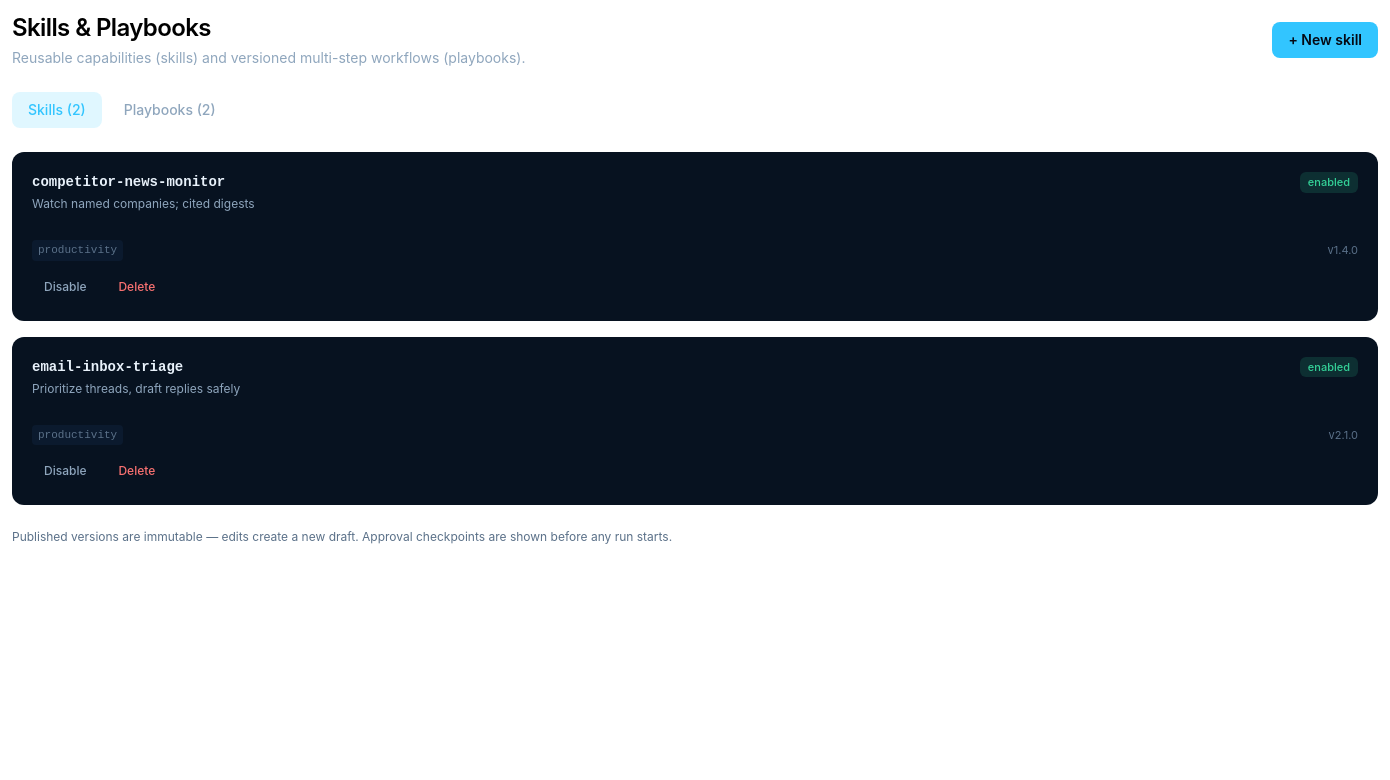
Test: §8.8 playbook versioning › runs record the version they ran and history displays it
Click the tab "Playbooks (2)".
click(170, 110)  # box [108,92,232,128]
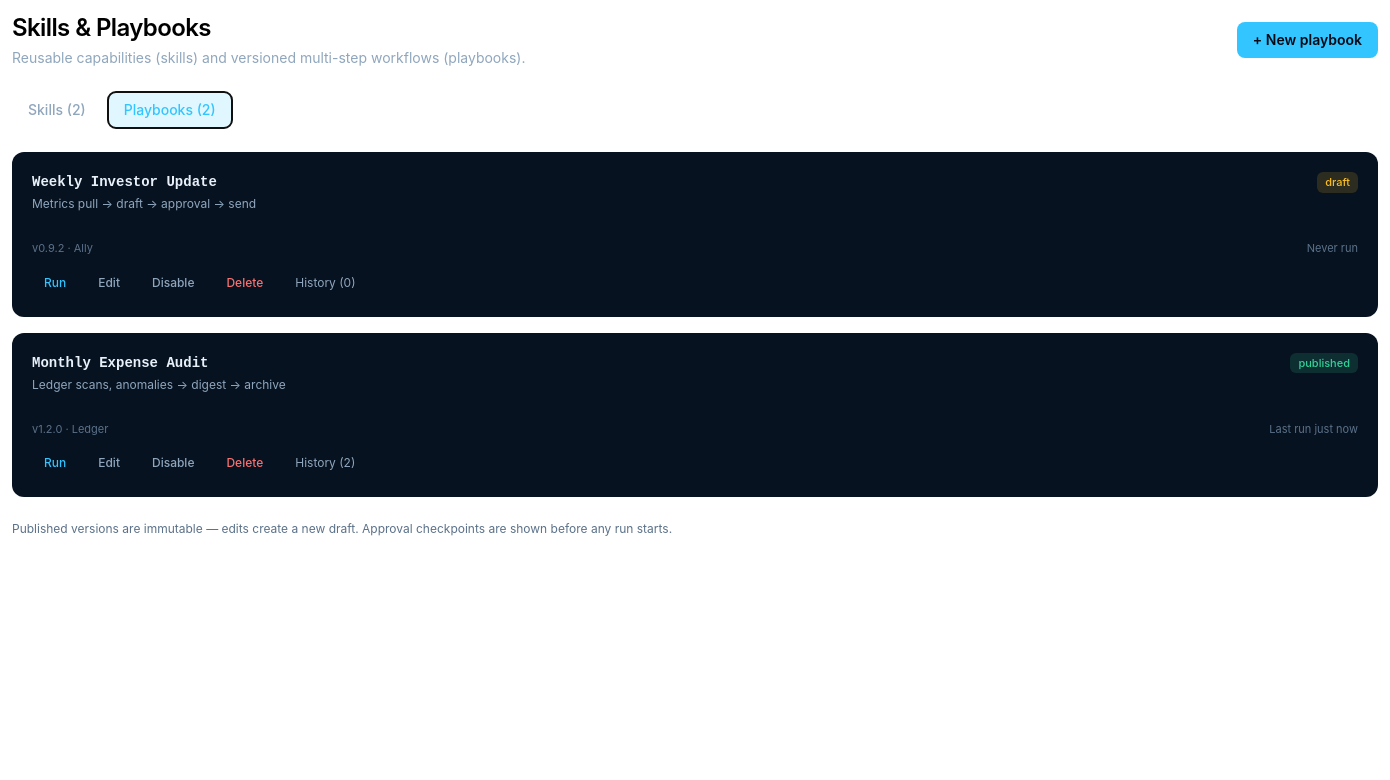
Expected: the text "Monthly Expense Audit" is shown, [32,354,208,370]
Click the button "History (2)".
click(325, 463)  # box [283,449,367,477]
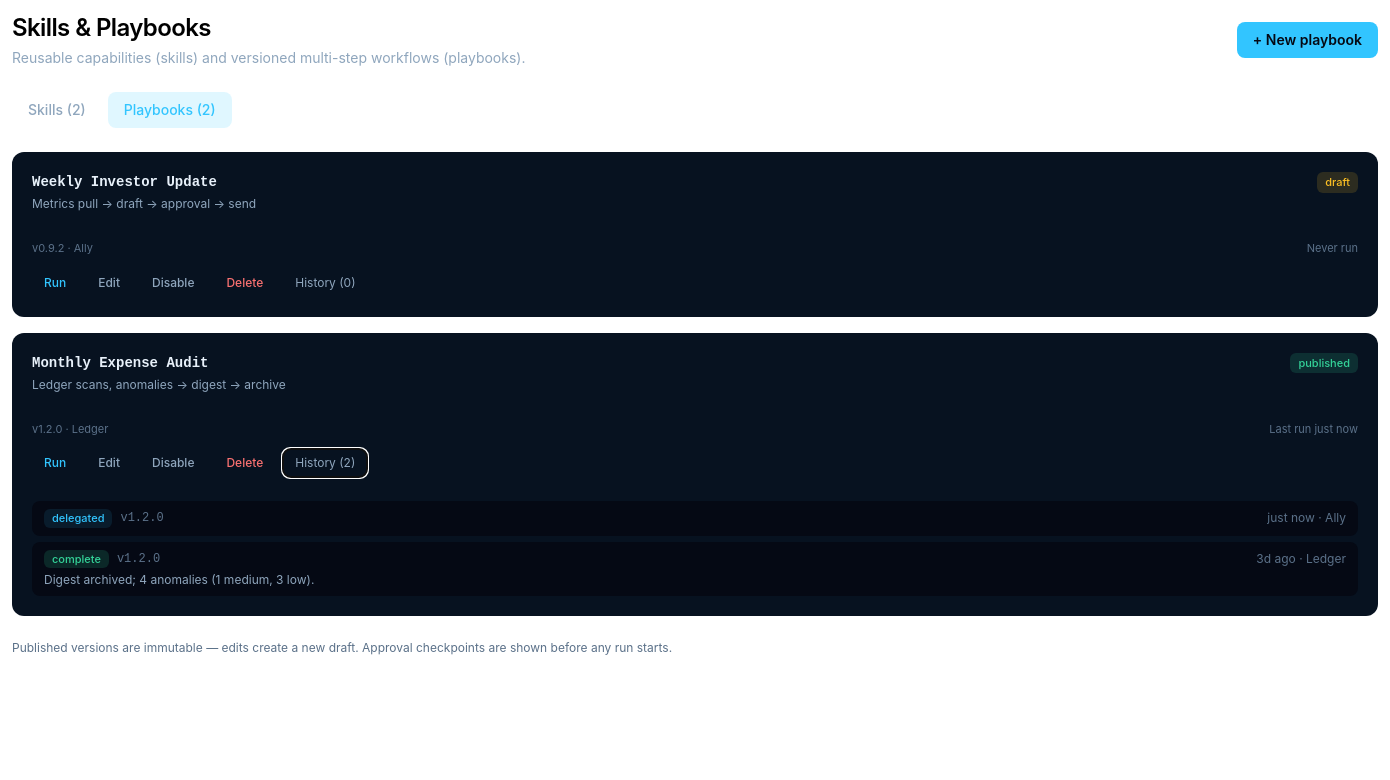
Expected: the text "v1.2.0" next to "delegated" is shown, [120,510,164,526]
